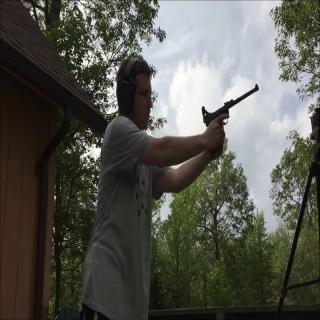gun: (200, 79, 266, 152)
